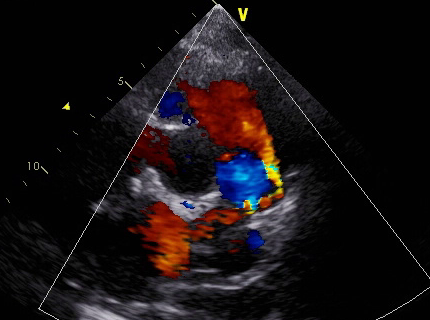PR: (222, 97, 296, 222)
